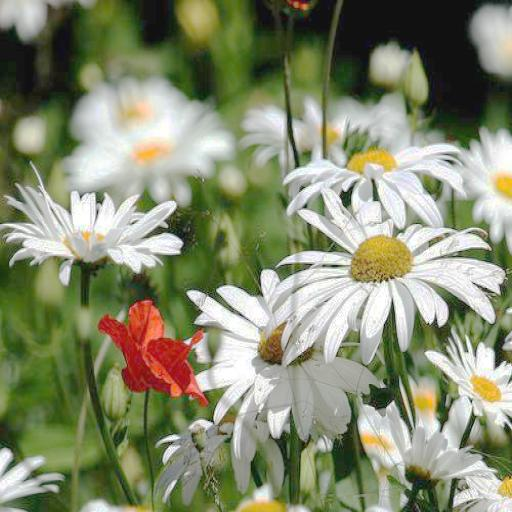daisy: (279, 211, 463, 357), (203, 292, 357, 443), (4, 176, 165, 268), (291, 140, 471, 206), (433, 343, 512, 434), (66, 80, 196, 130), (66, 137, 244, 173), (477, 132, 512, 229), (454, 458, 512, 512)
